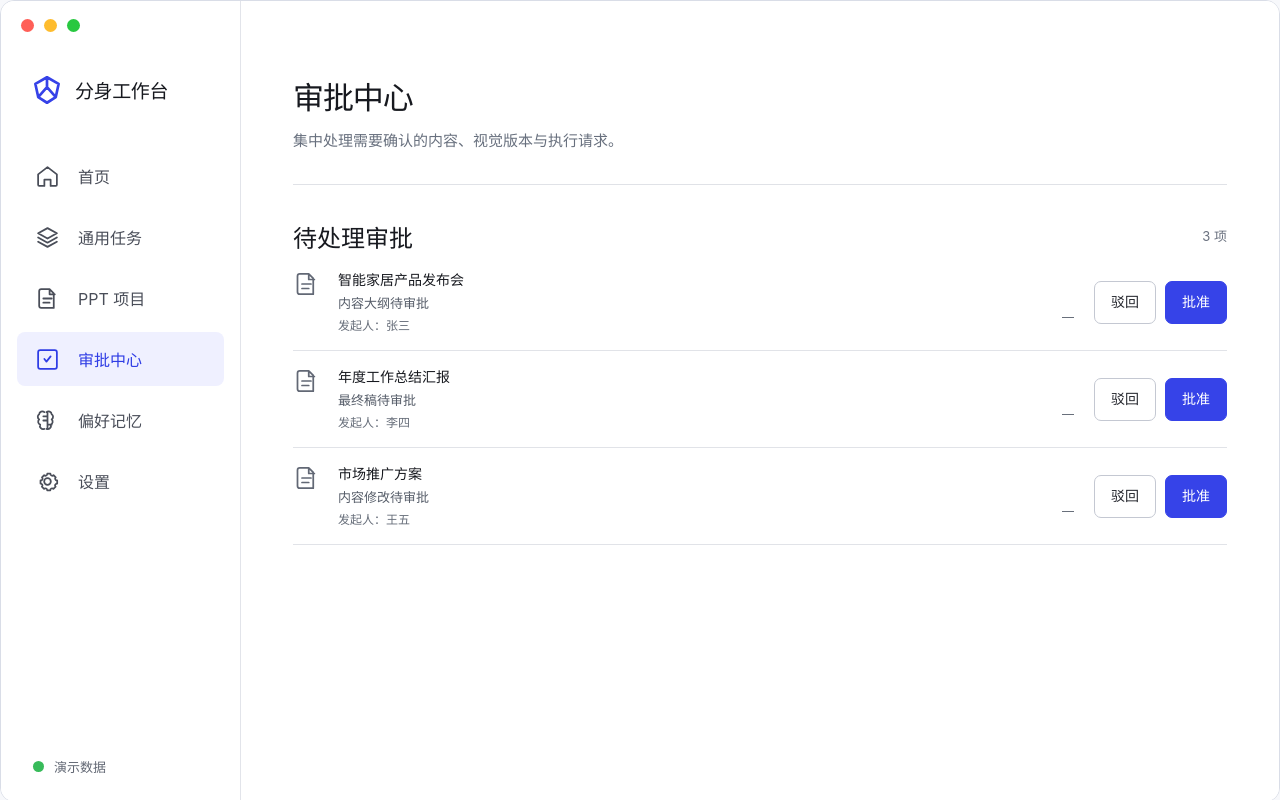
Test: desktop workbench interactions › removes a handled item from the approval center
The width and height of the screenshot is (1280, 800).
Expected: the text "智能家居产品发布会" is shown, left=338, top=271, right=464, bottom=288
Click the button "批准" in the row of "智能家居产品发布会" at (1196,302), box left=1165, top=280, right=1227, bottom=324
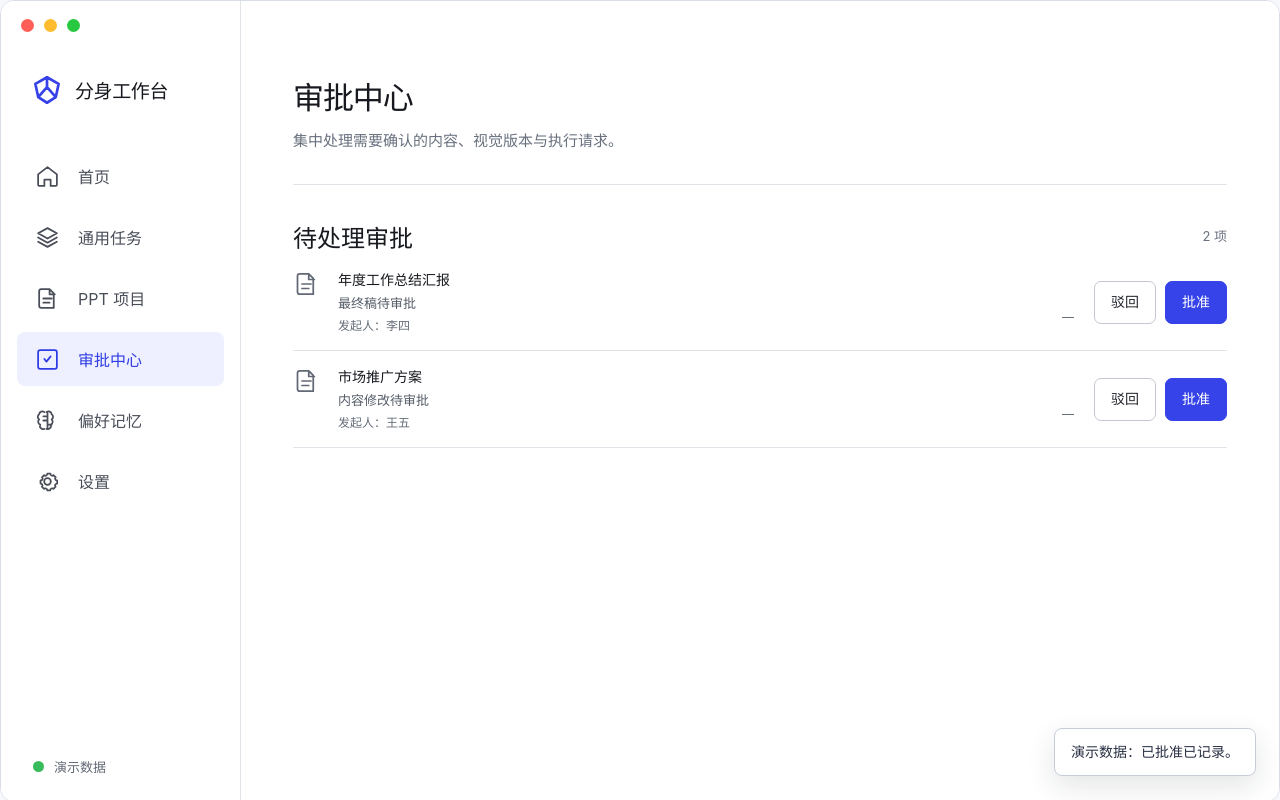
Expected: the text "智能家居产品发布会" is gone
Expected: the message reads "演示数据：已批准已记录。", left=1071, top=743, right=1239, bottom=760
